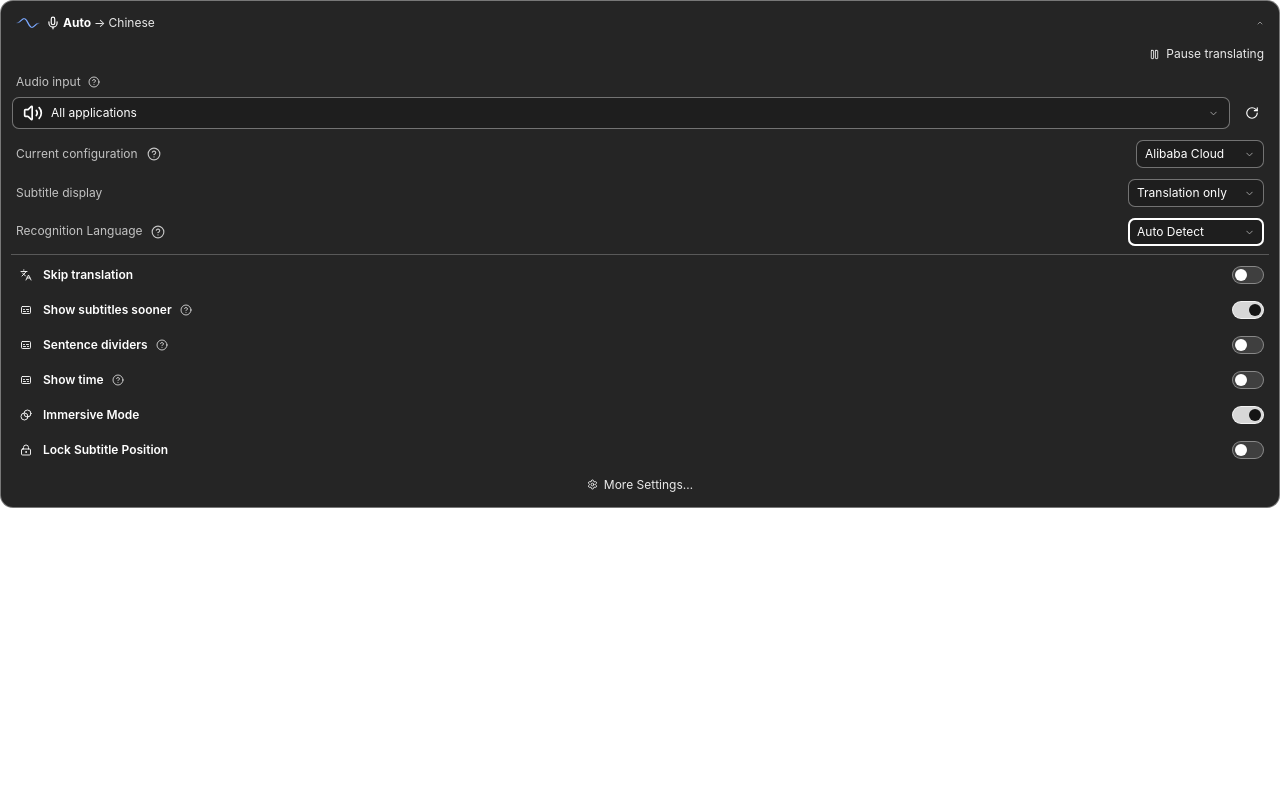
Test: keeps pause and resume in the immersive panel, blocks duplicate actions, and reports a failed retry
Step 1. Click the button with class "overlay-control-session-action" → (1207,54), box left=1141, top=41, right=1272, bottom=67
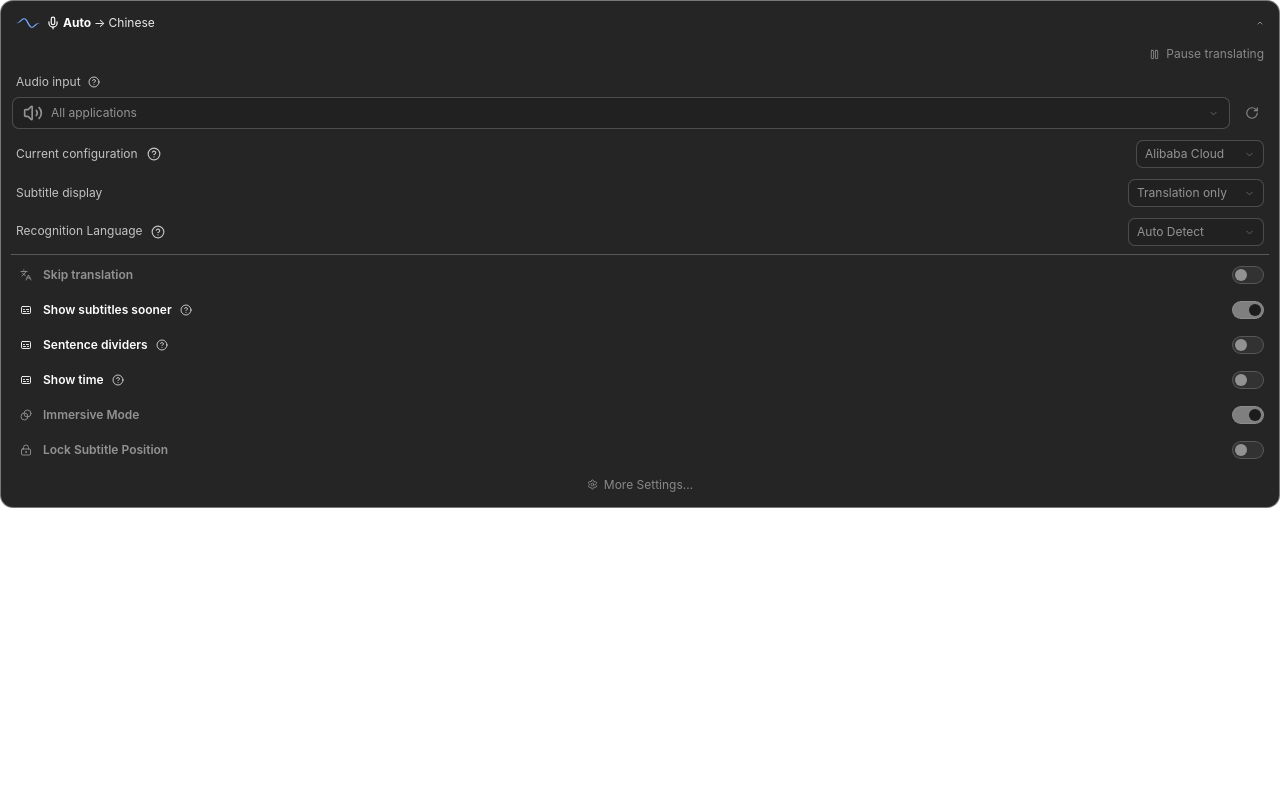
Now the button with class "overlay-control-session-action" is disabled
Step 2. Click the button with class "overlay-control-session-action" → (1207,54), box left=1141, top=41, right=1272, bottom=67
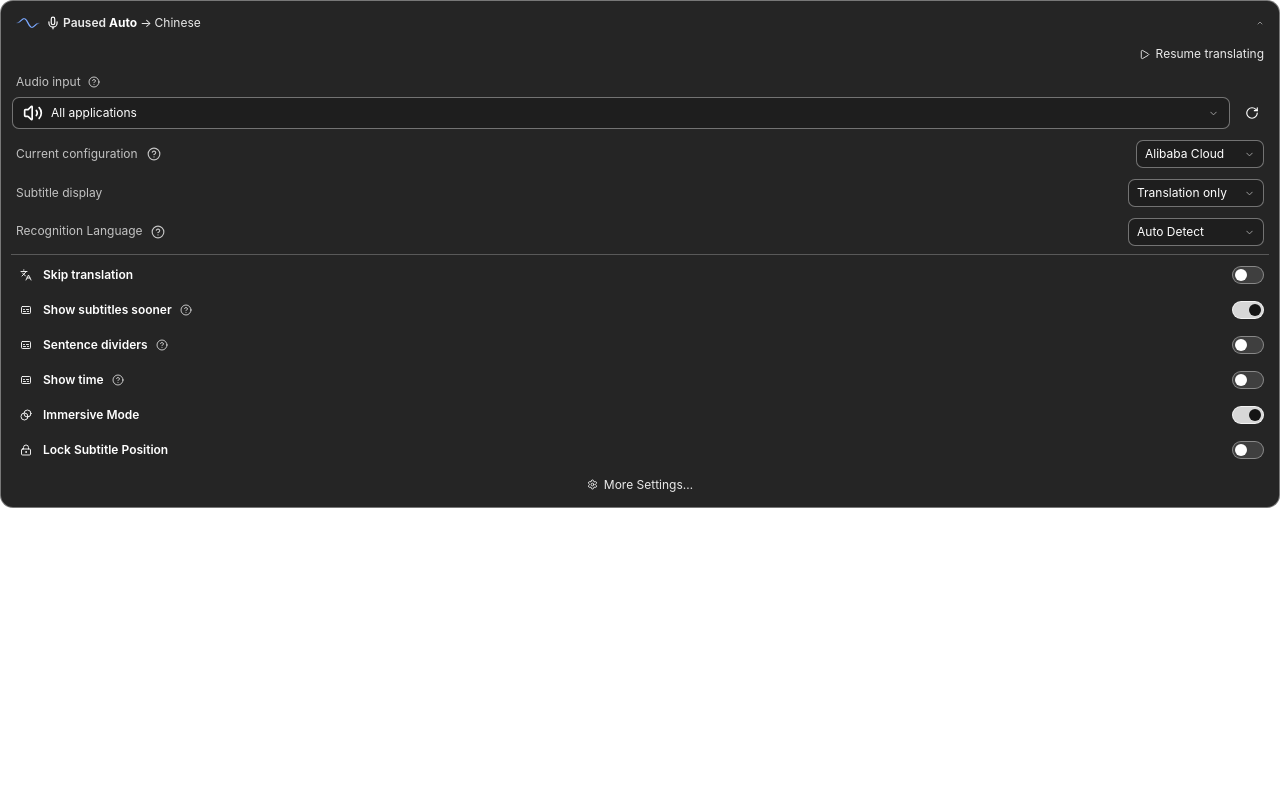
Now the button with class "overlay-control-session-action" reads "Resume translating"
Step 3. Click the button with class "overlay-control-session-action" → (1201,54), box left=1131, top=41, right=1272, bottom=67
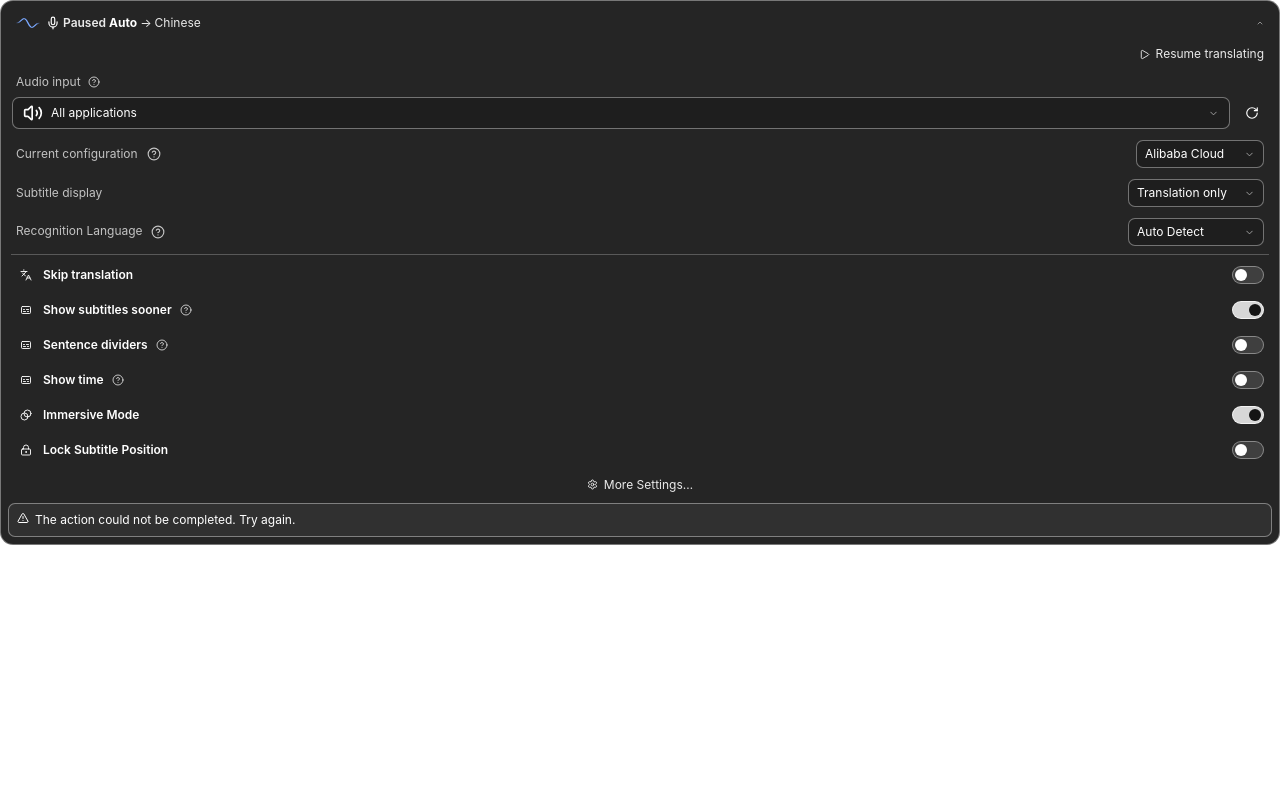
Now the button with class "overlay-control-session-action" reads "Resume translating"
Now the message with class "overlay-control-alert" reads "The action could not be completed. Try again.", box left=35, top=512, right=295, bottom=527
Step 4. Click the button with class "overlay-control-session-action" → (1201,54), box left=1131, top=41, right=1272, bottom=67
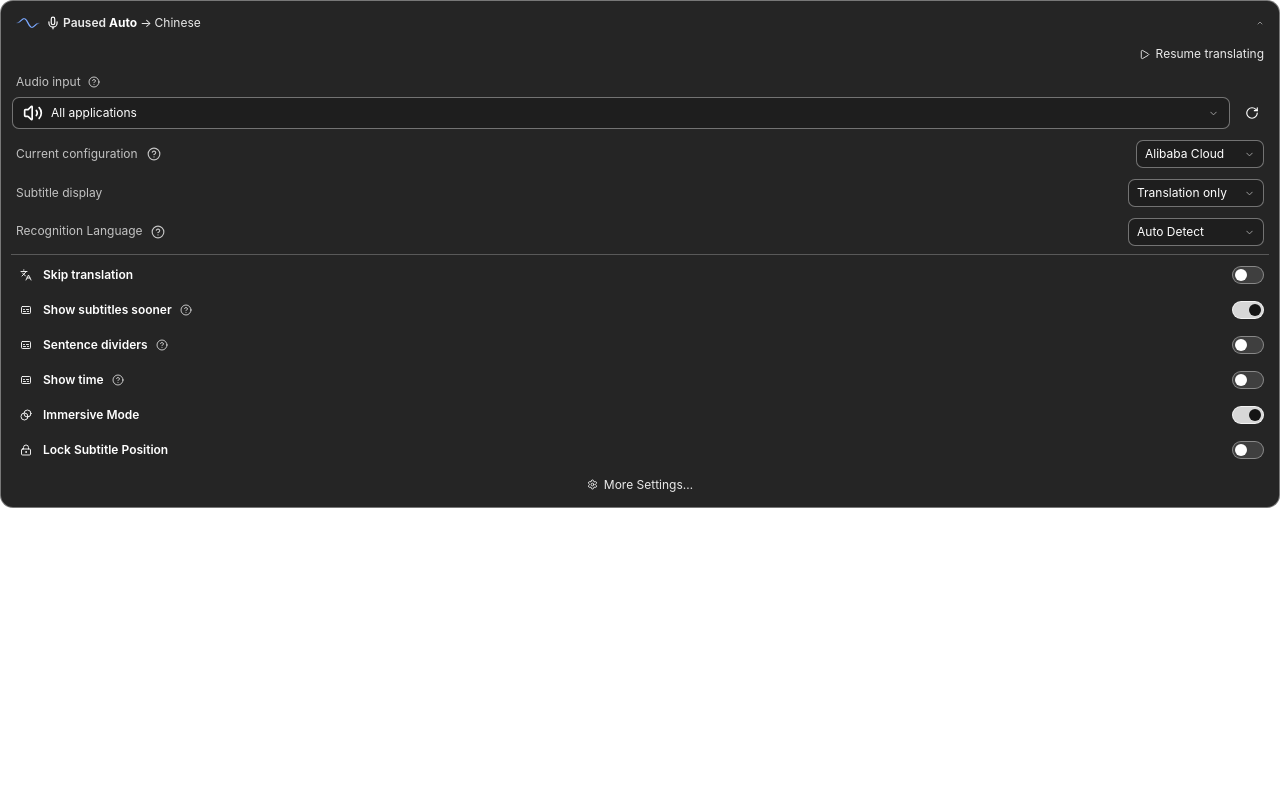
Now the message with class "overlay-control-alert" is gone
